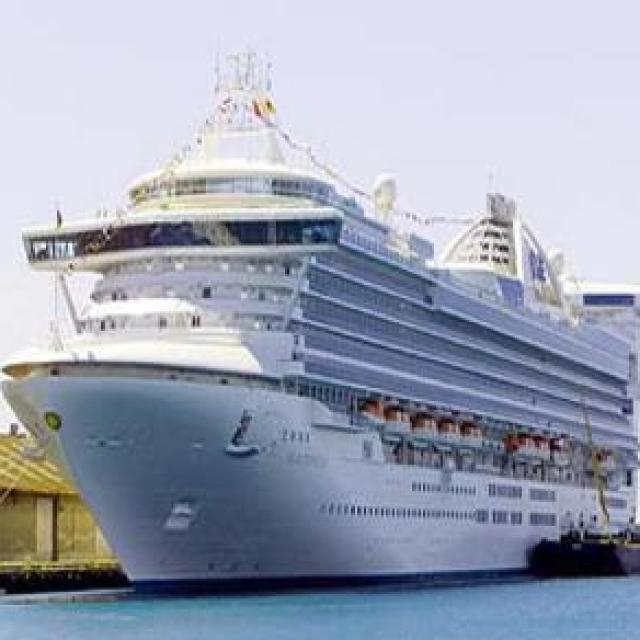fishing boat: (506, 482, 640, 590)
passenger ship: (9, 59, 640, 585)
